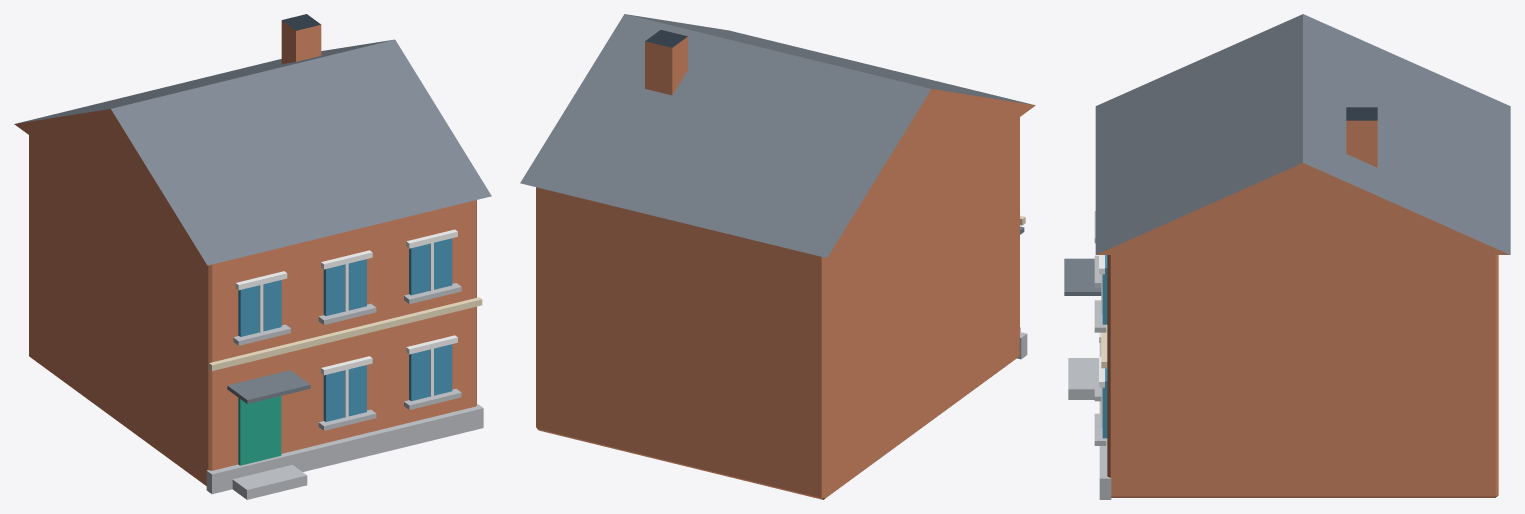
Rendered from townhouse_b.fbx.
3 views of the same model, side by side, from view 1: azimuth 30°, elevation 25°; view 2: azimuth 150°, elevation 25°; view 3: azimuth 270°, elevation 25° (orthographic). The views are drawn at different scales.
Parts seen in each view (by area): view 1: townhouse_b; view 2: townhouse_b; view 3: townhouse_b.
Boxes of the visible parts, left/top/right/bottom form: townhouse_b: left=14, top=14, right=491, bottom=499; townhouse_b: left=520, top=14, right=1035, bottom=499; townhouse_b: left=1064, top=14, right=1510, bottom=499.
Size of the model in its own units: 9 by 10 by 11.4.
